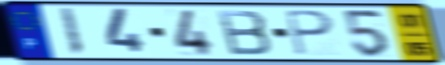4: (105, 6, 152, 58), (172, 8, 215, 57)
5: (341, 8, 391, 60)
B: (214, 8, 275, 57)
I: (58, 7, 87, 57)
P: (282, 9, 337, 58)
